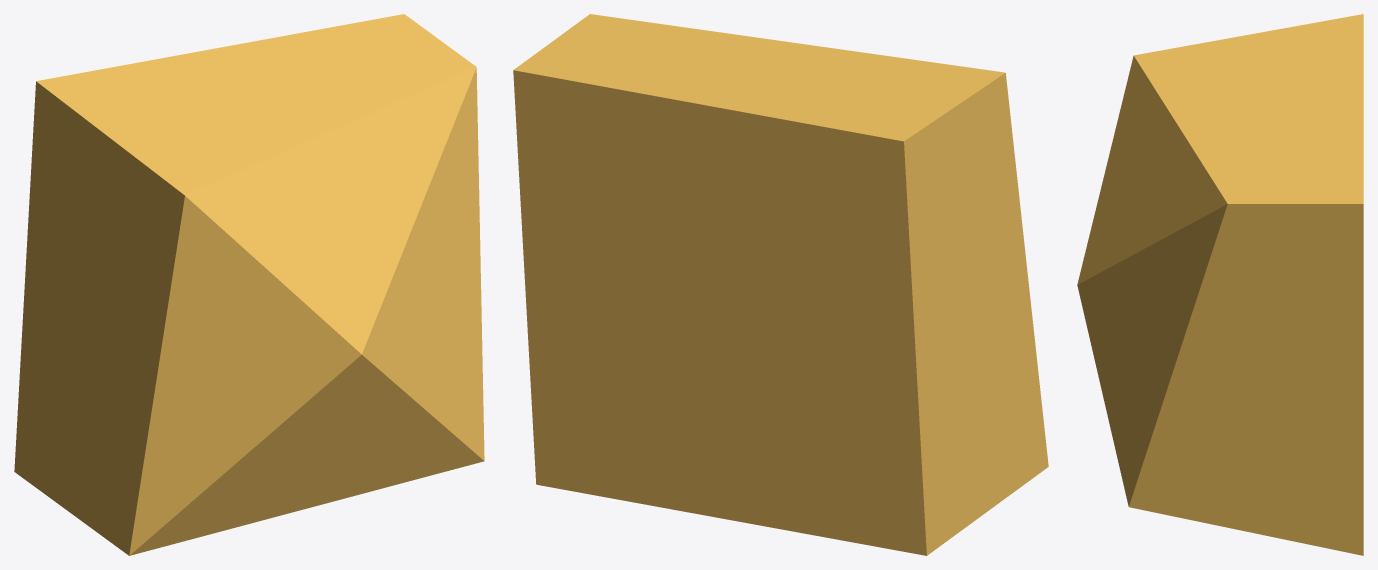
The model's file is Pedrinha.fbx.
3 views of the same model, side by side, from view 1: azimuth 30°, elevation 25°; view 2: azimuth 150°, elevation 25°; view 3: azimuth 270°, elevation 25° (orthographic). The views are drawn at different scales.
Visible parts, largest first — view 1: Guardian.003; view 2: Guardian.003; view 3: Guardian.003.
Part boxes in pixels (box(x1,y1,x2,y2)): Guardian.003: box(14, 14, 484, 555); Guardian.003: box(513, 14, 1048, 555); Guardian.003: box(1077, 14, 1363, 555).
Bounding box in the file's own units: 20.68 × 20.68 × 14.01.
